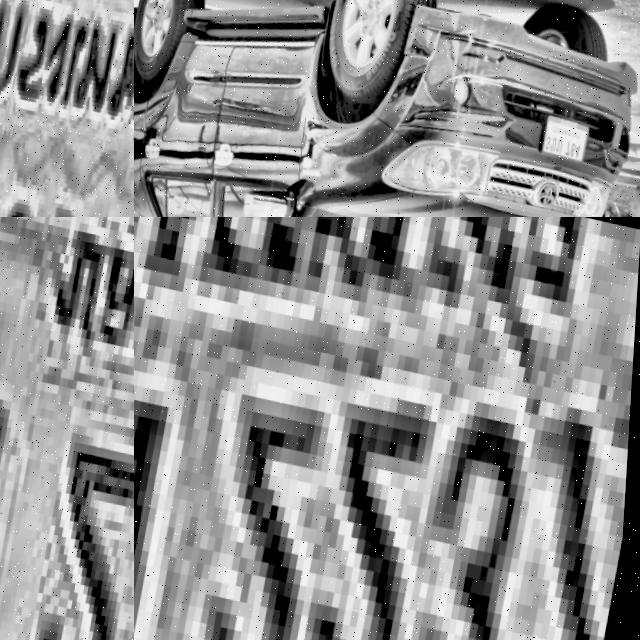license-plate: (134, 217, 640, 640), (0, 217, 134, 640), (0, 0, 134, 217), (537, 100, 595, 161)
